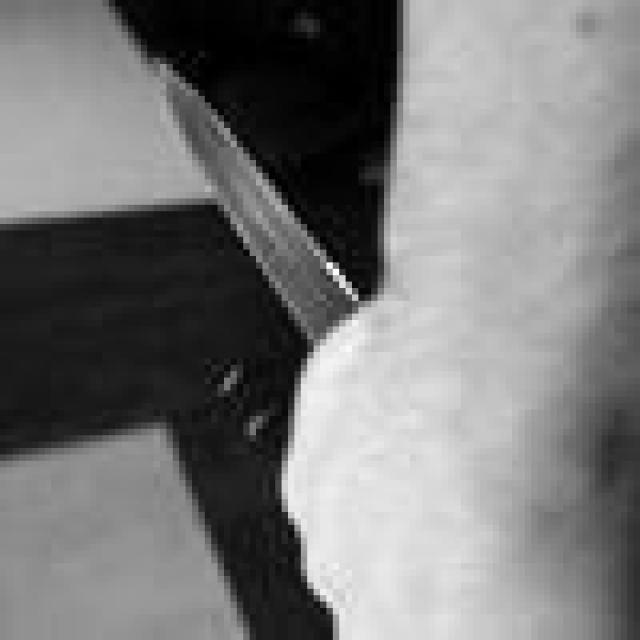knife: (160, 66, 367, 347)
